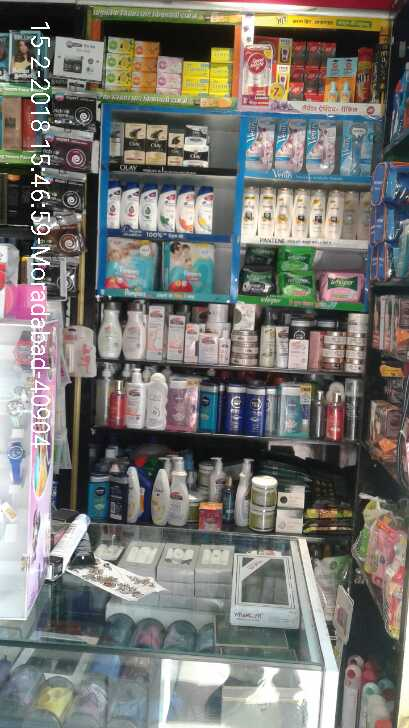venus: (340, 121, 373, 179), (305, 121, 336, 172), (246, 120, 276, 166), (276, 120, 303, 166)
